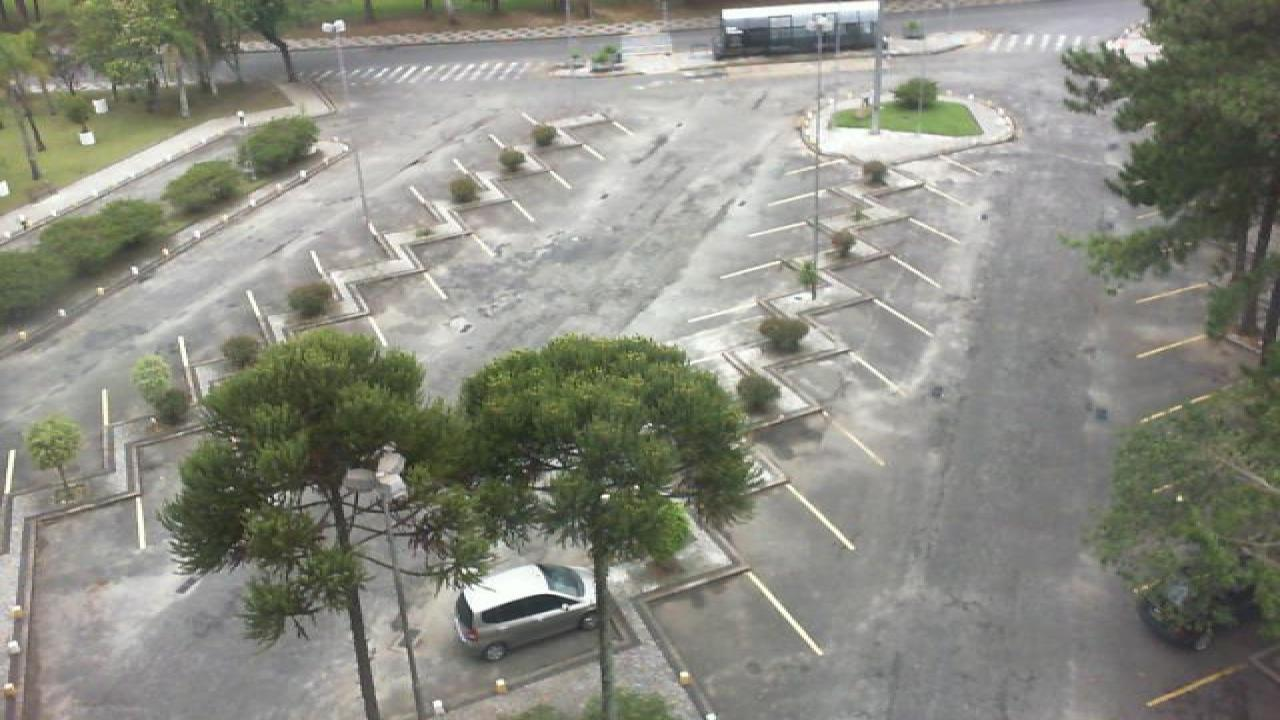Car: (450, 562, 602, 664)
